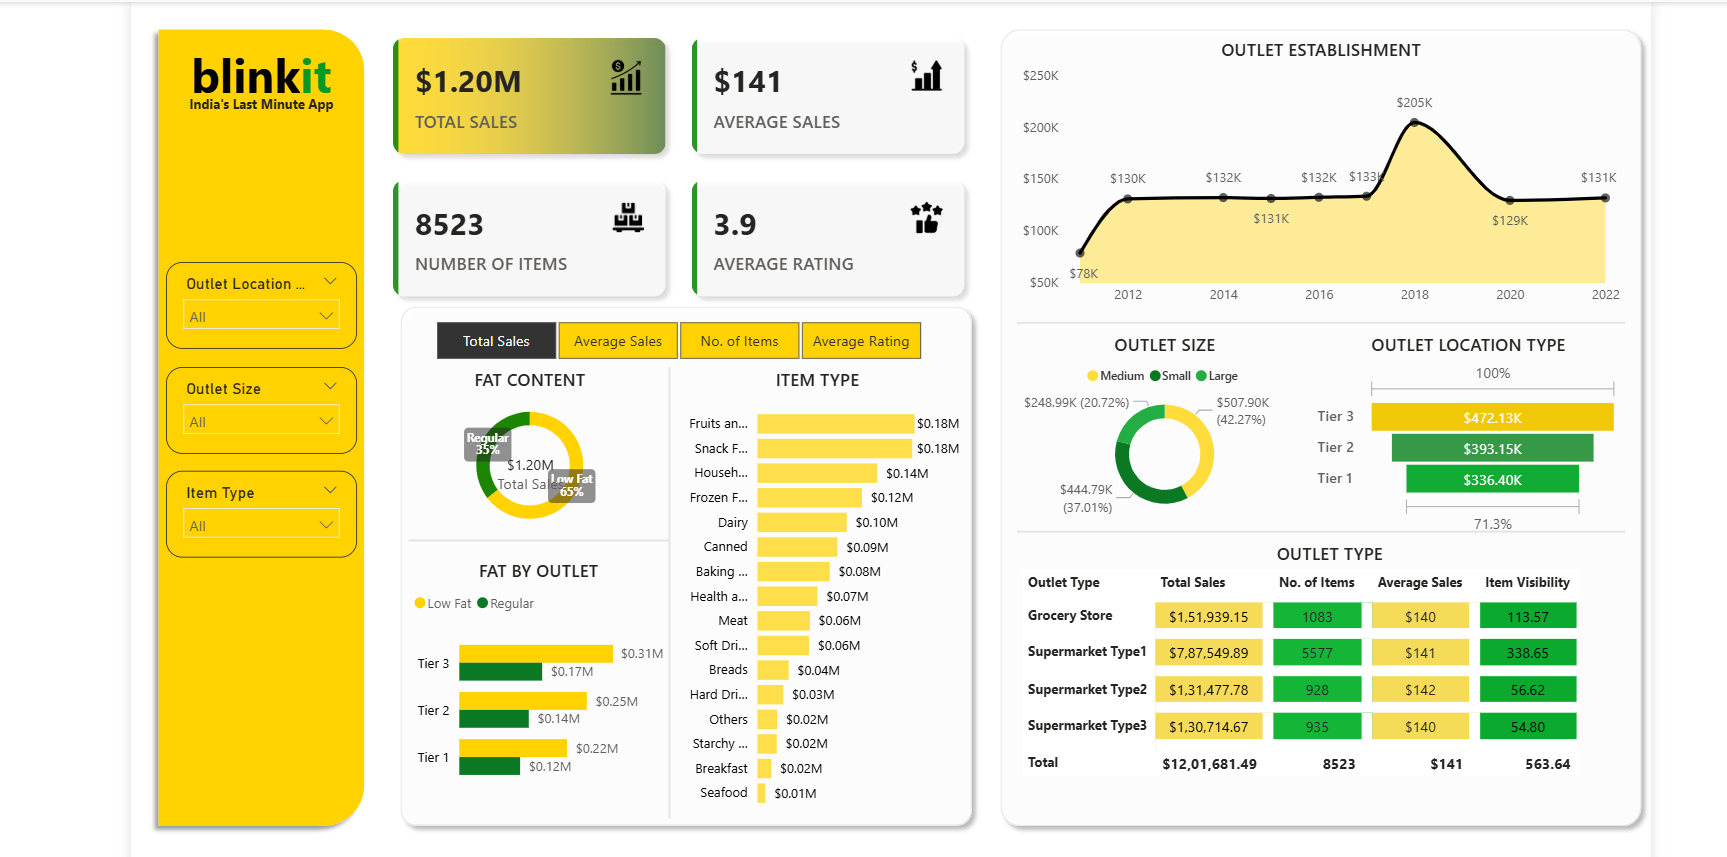

What the dashboard file says about the page in this screenshot:
{"tool":"powerbi","page":{"name":"Page 1","canvas":[1400,800],"ordinal":0},"visuals":[{"type":"shape","box":[16,16,208,752],"z":0},{"type":"textbox","box":[16,32,208,80],"z":1000},{"type":"textbox","box":[32,80,176,32],"z":2000},{"type":"cardVisual","fields":{"Data":["Sum(BlinkIT Grocery Data.Sales)","Avg(BlinkIT Grocery Data.Sales)","BlinkIT Grocery Data.No. of Items","Avg(BlinkIT Grocery Data.Rating)"]},"box":[224,16,560,272],"z":3000},{"type":"shape","box":[240,272,544,496],"z":4000},{"type":"donutChart","title":"FAT CONTENT","fields":{"Y":["BlinkIT Grocery Data.Total Sales"],"Category":["BlinkIT Grocery Data.Item Fat Content"]},"box":[240,336,256,160],"z":5000},{"type":"slicer","fields":{"Values":["Metrics.Metrics"]},"box":[256,288,496,48],"z":6000},{"type":"cardVisual","fields":{"Data":["BlinkIT Grocery Data.Total Sales"]},"box":[320,400,96,64],"z":7000},{"type":"clusteredBarChart","title":"FAT BY OUTLET","fields":{"Y":["BlinkIT Grocery Data.Total Sales"],"Series":["BlinkIT Grocery Data.Item Fat Content"],"Category":["BlinkIT Grocery Data.Outlet Location Type"]},"box":[256,512,240,224],"z":8000},{"type":"barChart","title":"ITEM TYPE","fields":{"Y":["BlinkIT Grocery Data.Total Sales"],"Category":["BlinkIT Grocery Data.Item Type"]},"box":[496,336,272,416],"z":9000},{"type":"shape","box":[256,464,240,64],"z":10000},{"type":"shape","box":[464,336,64,416],"z":11000},{"type":"shape","box":[792,16,608,752],"z":12000},{"type":"areaChart","title":"OUTLET ESTABLISHMENT","fields":{"Y":["BlinkIT Grocery Data.Total Sales"],"Category":["BlinkIT Grocery Data.Outlet Establishment Year"]},"box":[816,32,560,256],"z":13000},{"type":"donutChart","title":"OUTLET SIZE","fields":{"Y":["BlinkIT Grocery Data.Total Sales"],"Category":["BlinkIT Grocery Data.Outlet Size"]},"box":[816,304,272,176],"z":14000},{"type":"funnel","title":"OUTLET LOCATION TYPE","fields":{"Y":["BlinkIT Grocery Data.Total Sales"],"Category":["BlinkIT Grocery Data.Outlet Location Type"]},"box":[1088,304,288,192],"z":15000},{"type":"pivotTable","title":"OUTLET TYPE","fields":{"Rows":["BlinkIT Grocery Data.Outlet Type"],"Values":["BlinkIT Grocery Data.Total Sales","BlinkIT Grocery Data.No. of Items","BlinkIT Grocery Data.Average Sales","Sum(BlinkIT Grocery Data.Item Visibility)"]},"box":[816,496,576,240],"z":16000},{"type":"shape","box":[816,448,560,80],"z":17000},{"type":"shape","box":[816,256,560,80],"z":18000},{"type":"slicer","fields":{"Values":["BlinkIT Grocery Data.Outlet Location Type"]},"box":[32,240,176,80],"z":19000},{"type":"slicer","fields":{"Values":["BlinkIT Grocery Data.Item Type"]},"box":[32,432,176,80],"z":20000},{"type":"slicer","fields":{"Values":["BlinkIT Grocery Data.Outlet Size"]},"box":[32,336,176,80],"z":21000}]}

Visuals, with their boxes on the page's 1400x800 design canvas (x1, y1, x2, y2). These are canvas units, not pixel positions in the 1727x857 screenshot, which may show the page scaled, cropped or inside an application window:
shape: <region>16, 16, 224, 768</region>
textbox: <region>16, 32, 224, 112</region>
textbox: <region>32, 80, 208, 112</region>
cardVisual - Sum(BlinkIT Grocery Data.Sales) x Avg(BlinkIT Grocery Data.Sales): <region>224, 16, 784, 288</region>
shape: <region>240, 272, 784, 768</region>
"FAT CONTENT" donutChart: <region>240, 336, 496, 496</region>
slicer - Metrics.Metrics: <region>256, 288, 752, 336</region>
cardVisual - BlinkIT Grocery Data.Total Sales: <region>320, 400, 416, 464</region>
"FAT BY OUTLET" clusteredBarChart: <region>256, 512, 496, 736</region>
"ITEM TYPE" barChart: <region>496, 336, 768, 752</region>
shape: <region>256, 464, 496, 528</region>
shape: <region>464, 336, 528, 752</region>
shape: <region>792, 16, 1400, 768</region>
"OUTLET ESTABLISHMENT" areaChart: <region>816, 32, 1376, 288</region>
"OUTLET SIZE" donutChart: <region>816, 304, 1088, 480</region>
"OUTLET LOCATION TYPE" funnel: <region>1088, 304, 1376, 496</region>
"OUTLET TYPE" pivotTable: <region>816, 496, 1392, 736</region>
shape: <region>816, 448, 1376, 528</region>
shape: <region>816, 256, 1376, 336</region>
slicer - BlinkIT Grocery Data.Outlet Location Type: <region>32, 240, 208, 320</region>
slicer - BlinkIT Grocery Data.Item Type: <region>32, 432, 208, 512</region>
slicer - BlinkIT Grocery Data.Outlet Size: <region>32, 336, 208, 416</region>
